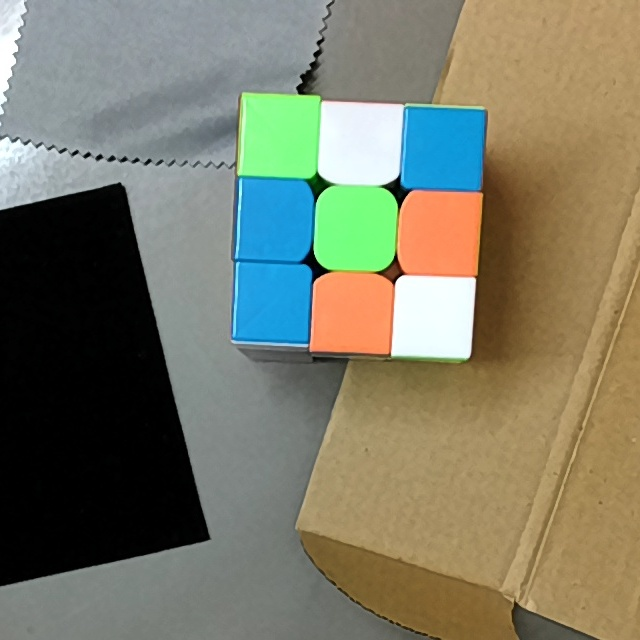tile: (243, 100, 311, 171), (414, 112, 480, 185), (239, 268, 307, 338), (408, 201, 475, 272), (324, 198, 392, 265), (330, 105, 394, 173), (319, 281, 385, 346), (403, 286, 465, 353), (243, 188, 303, 256)
